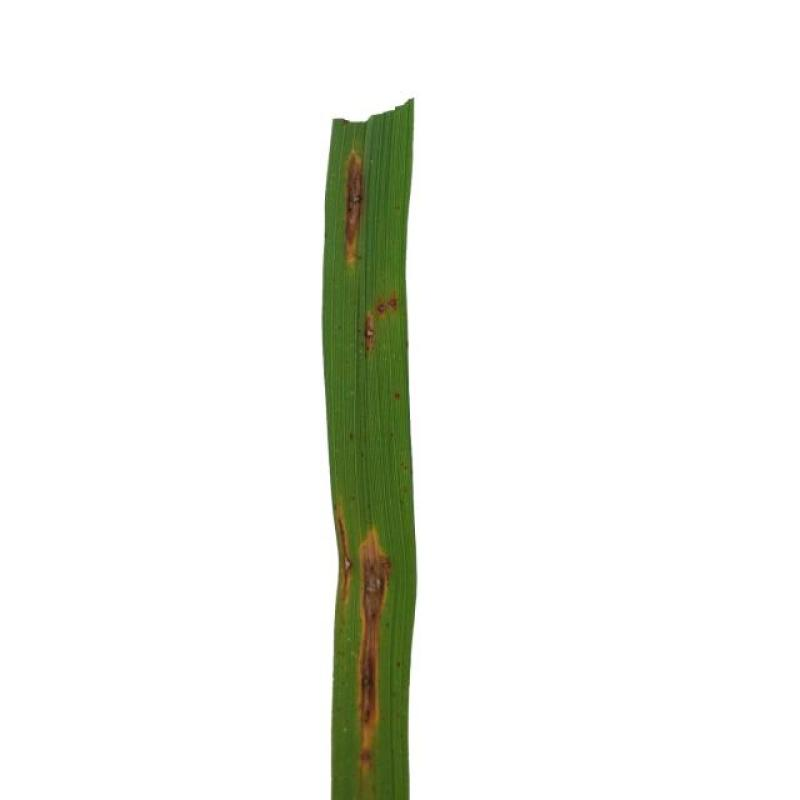Leaf_Blast: (348, 515, 392, 774), (339, 140, 379, 270), (352, 282, 407, 362)
